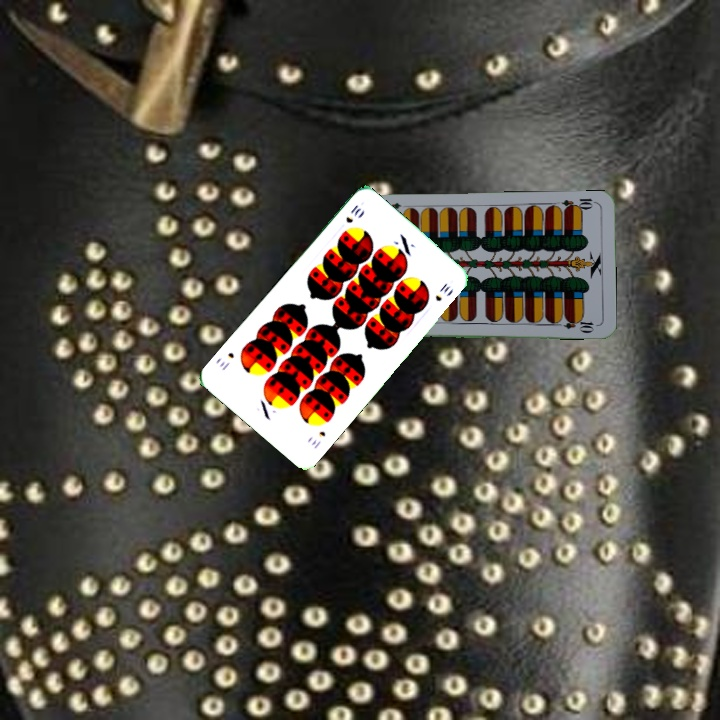E10: (558, 194, 599, 214)
S10: (342, 201, 364, 226), (307, 427, 328, 451)
